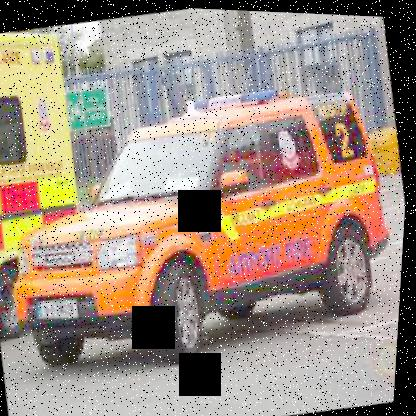emergency: (0, 53, 413, 400)
